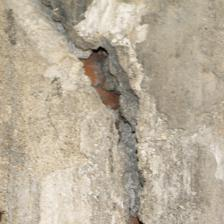Crack: (10, 4, 140, 145)
